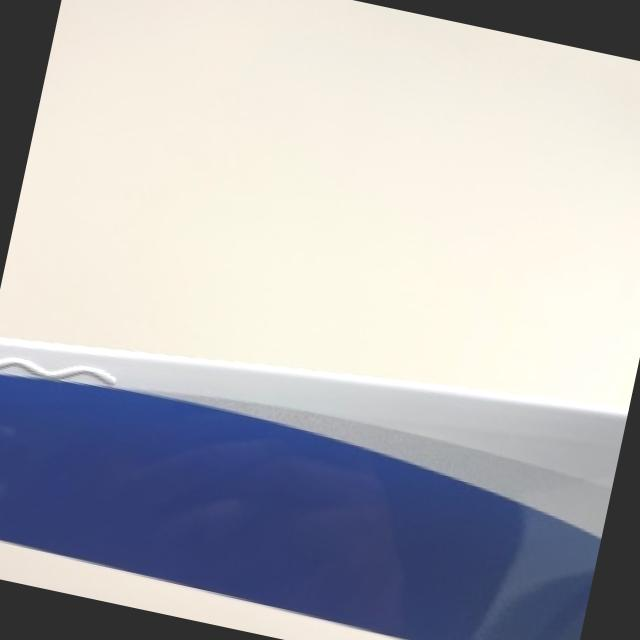healthy: (0, 335, 626, 640)
